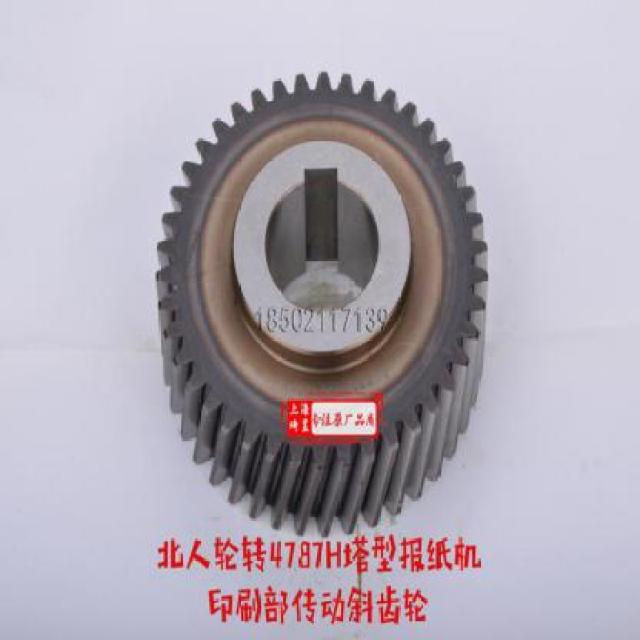Gear: (150, 68, 492, 542)
